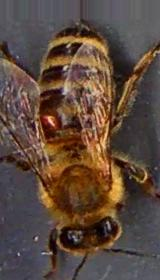varroa_mite: (40, 105, 59, 136)
